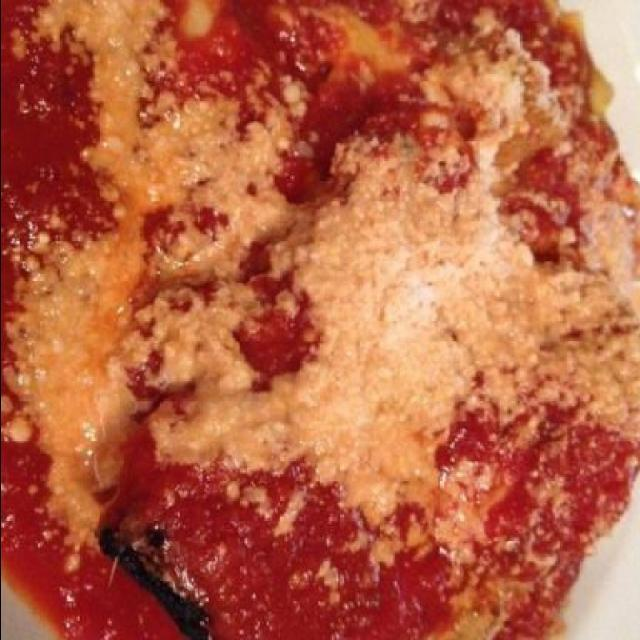Lasagna: (18, 6, 626, 622)
